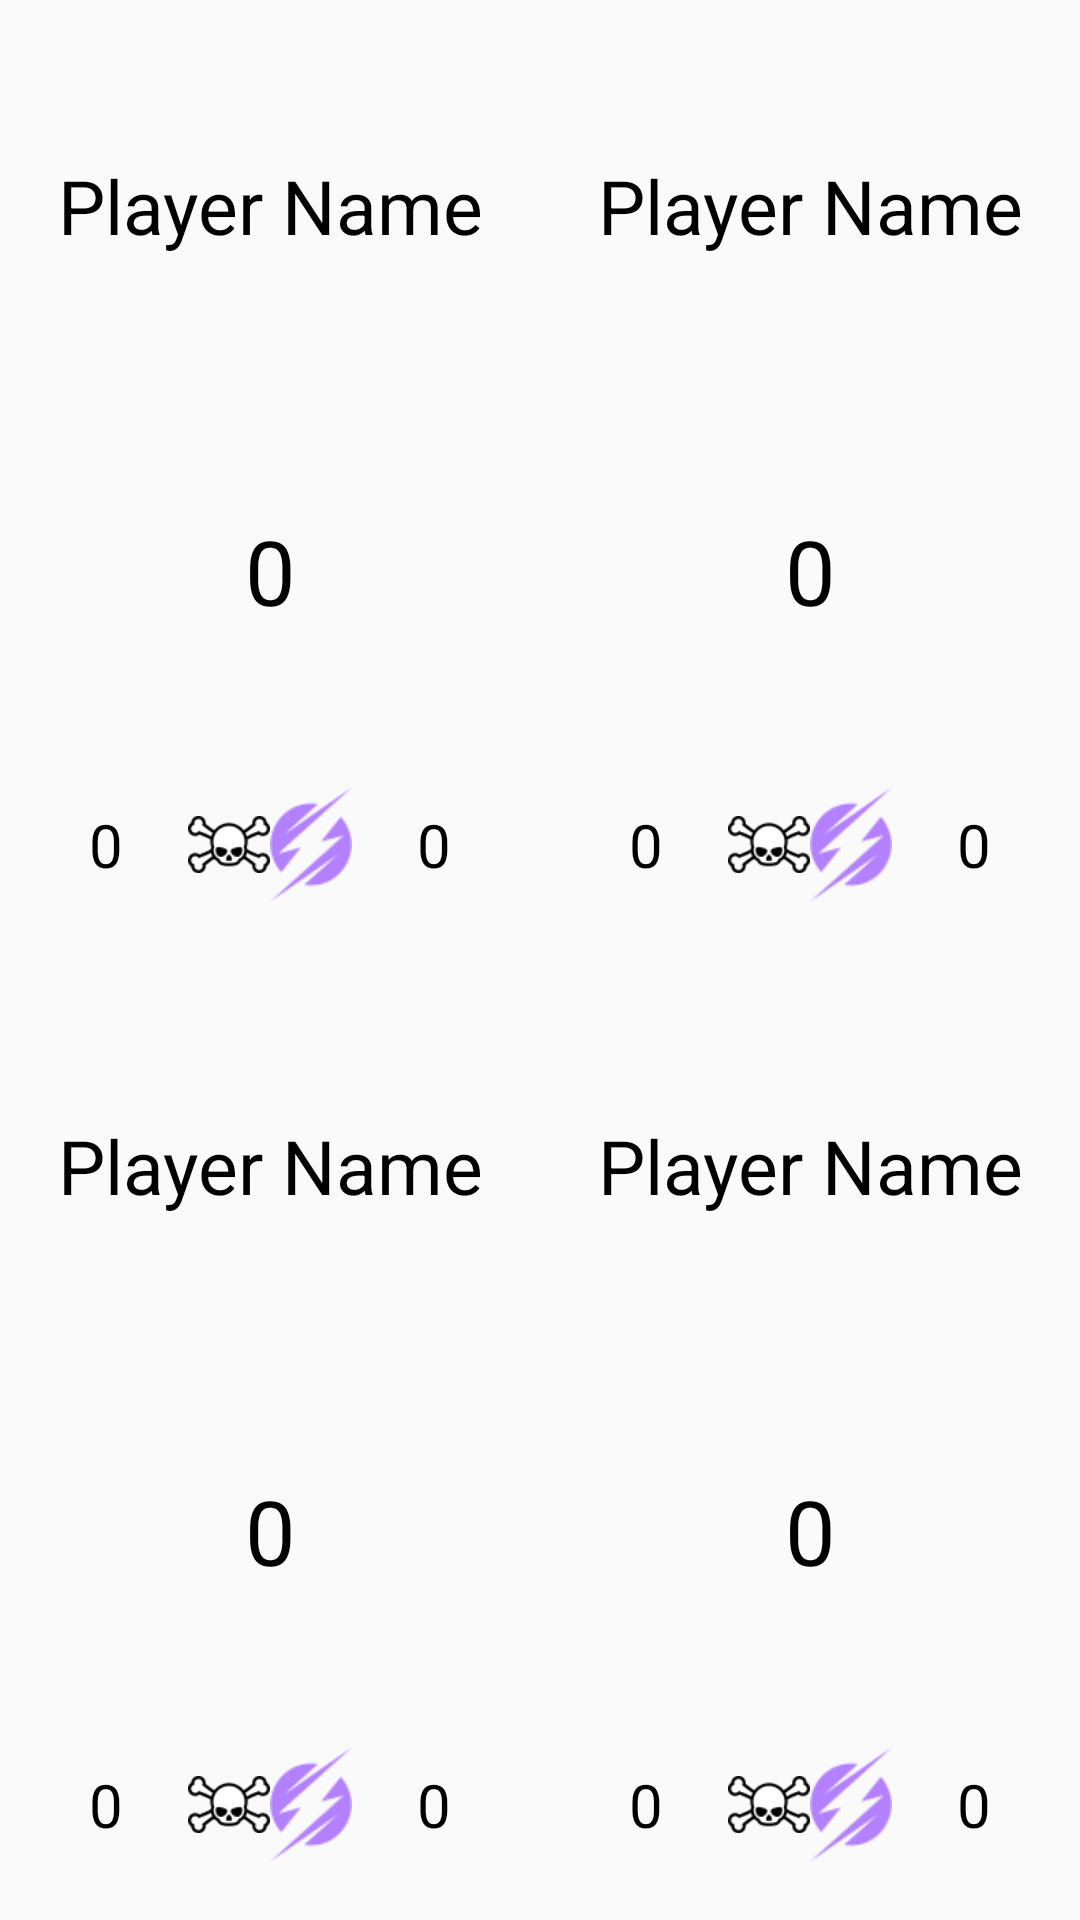

Screen size 1080×1920. Icon name, then its center in pixels as point (x, y):
counter energy: point (311, 844), point (851, 844), point (311, 1804), point (851, 1804)
counter poison: point (229, 844), point (769, 844), point (229, 1804), point (769, 1804)
